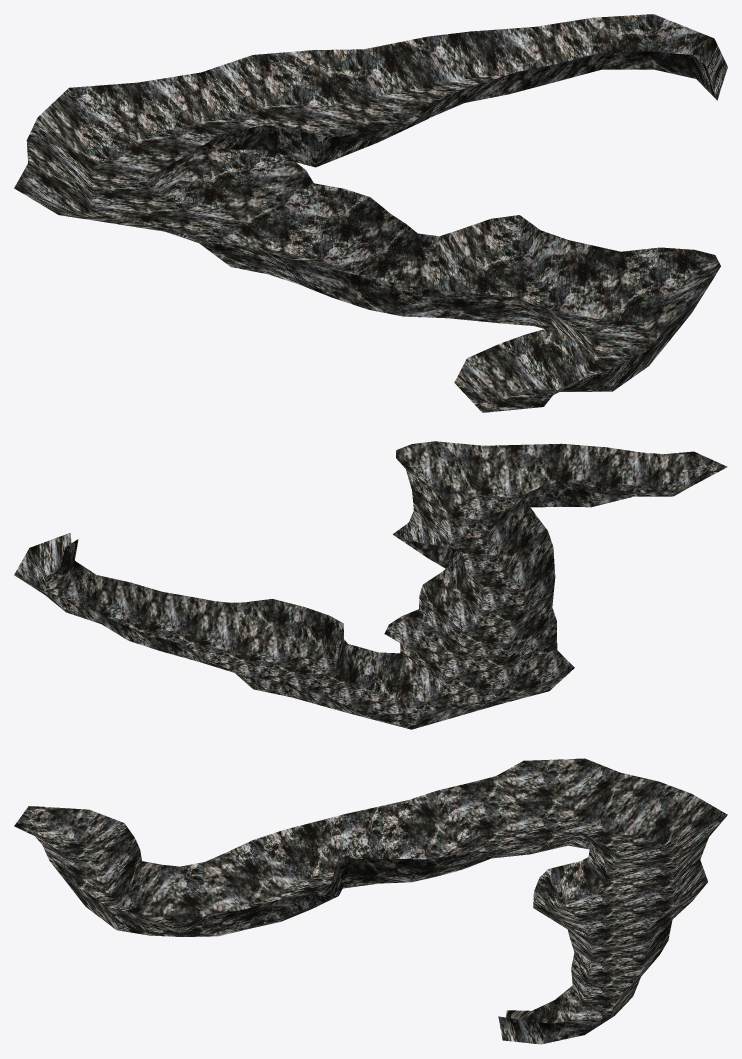
Rendered from OVERHILL_A_01_MOUNTAIN_VALLEY_01.fbx.
3 views of the same model, one above another, from view 1: azimuth 30°, elevation 25°; view 2: azimuth 150°, elevation 25°; view 3: azimuth 270°, elevation 25° (orthographic). The views are drawn at different scales.
Parts seen in each view (by area): view 1: OVERHILL_A_01_MOUNTAIN_VALLEY_01; view 2: OVERHILL_A_01_MOUNTAIN_VALLEY_01; view 3: OVERHILL_A_01_MOUNTAIN_VALLEY_01.
Part boxes in pixels (box(x1,y1,x2,y2)): OVERHILL_A_01_MOUNTAIN_VALLEY_01: box(14, 14, 727, 412); OVERHILL_A_01_MOUNTAIN_VALLEY_01: box(14, 441, 727, 729); OVERHILL_A_01_MOUNTAIN_VALLEY_01: box(14, 758, 727, 1044).
Bounding box in the file's own units: 2141235 × 179098 × 2434672.
1 material, 1 textured.
